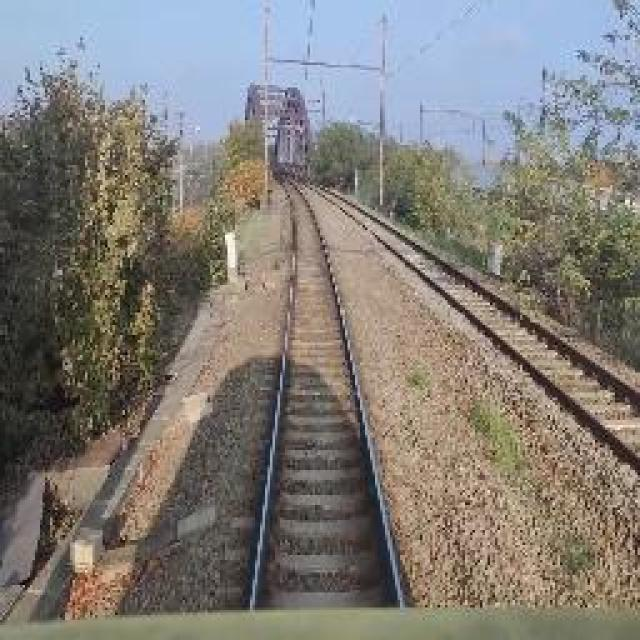rail: (288, 176, 640, 512), (221, 173, 425, 610)
